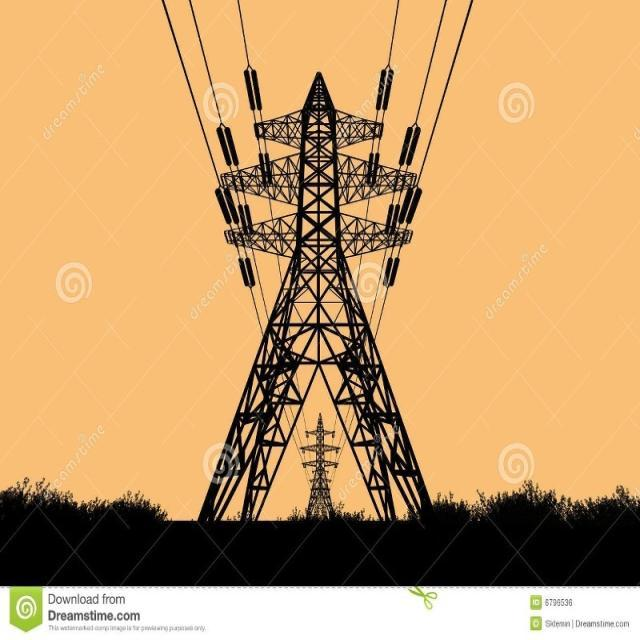non-critical vegetation: (203, 70, 444, 522)
